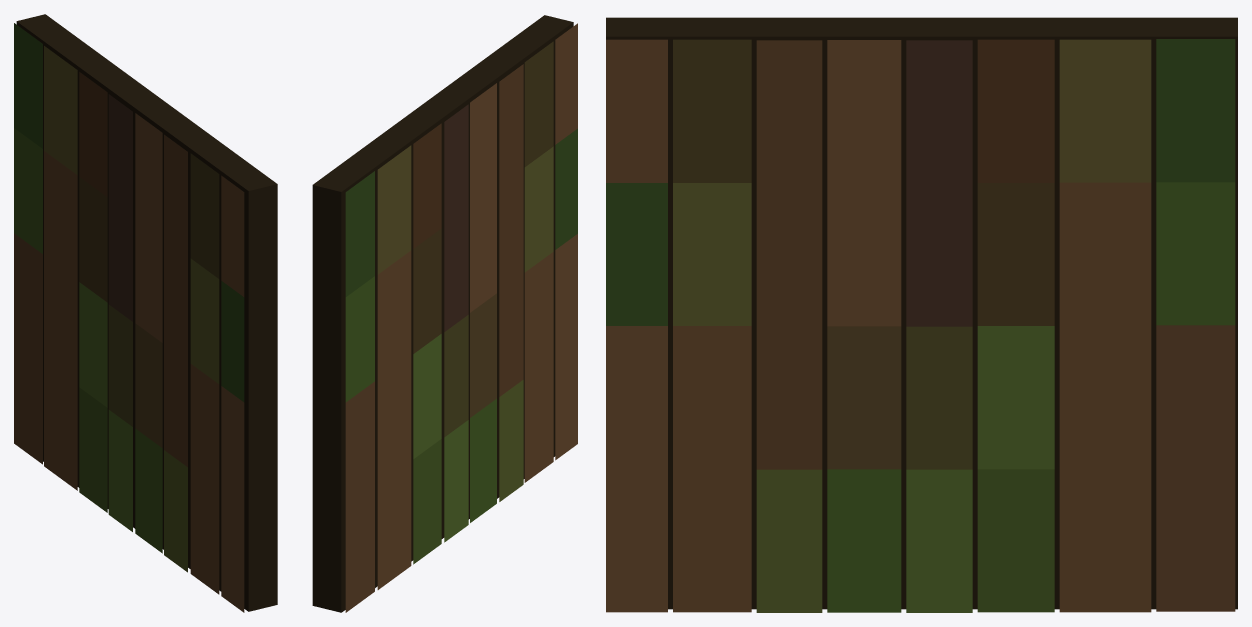
The model's file is wall-mossy.glb.
3 renders of one model, left to right at view 1: azimuth 30°, elevation 25°; view 2: azimuth 150°, elevation 25°; view 3: azimuth 270°, elevation 25°, orthographic. The views are drawn at different scales.
Visible parts, largest first — view 1: wall-mossy; view 2: wall-mossy; view 3: wall-mossy.
Part boxes in pixels (x1,y1,x2,y2): wall-mossy: (14, 14, 277, 612); wall-mossy: (312, 15, 577, 612); wall-mossy: (606, 17, 1237, 612).
Bounding box in the file's own units: 0.0985 × 1 × 1.
